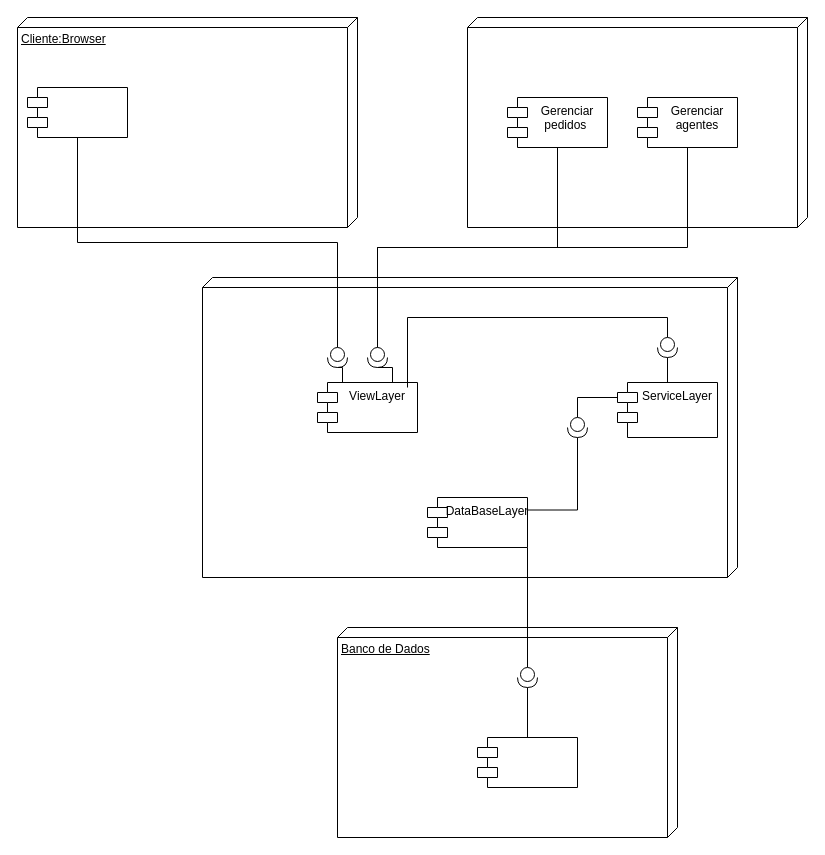
This 825x855 diagram has some shape labels left out. The box of each missing label's shape, as (x1, y1, x2, y2) in pixels:
Agente:Browser: (466, 16, 808, 228)
Pedido de aluguel: (26, 86, 128, 138)
Servidor Back-end: (202, 276, 738, 578)
SGBD: (476, 736, 578, 788)
